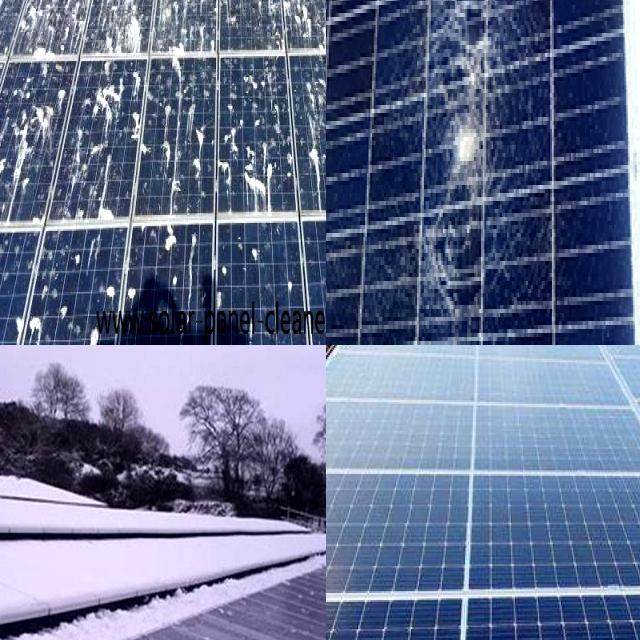bird: (24, 70, 72, 152), (234, 128, 282, 202), (304, 70, 326, 188), (90, 70, 129, 136), (158, 99, 186, 186), (94, 146, 128, 217), (229, 0, 273, 41), (0, 140, 23, 216), (0, 259, 22, 336), (166, 0, 204, 41), (295, 0, 326, 50), (0, 97, 16, 189), (191, 105, 209, 186), (6, 310, 48, 344), (278, 267, 306, 318), (246, 228, 271, 278), (83, 309, 112, 345), (216, 255, 246, 288), (126, 266, 148, 308), (65, 247, 90, 280), (157, 223, 180, 257)
crack: (326, 459, 518, 638), (457, 469, 640, 610)
hotspot: (424, 7, 516, 279), (326, 30, 354, 199)
panel: (38, 519, 180, 597), (29, 590, 212, 640), (0, 531, 67, 635), (182, 513, 303, 570), (0, 531, 49, 640), (0, 453, 63, 523), (0, 468, 57, 532)
